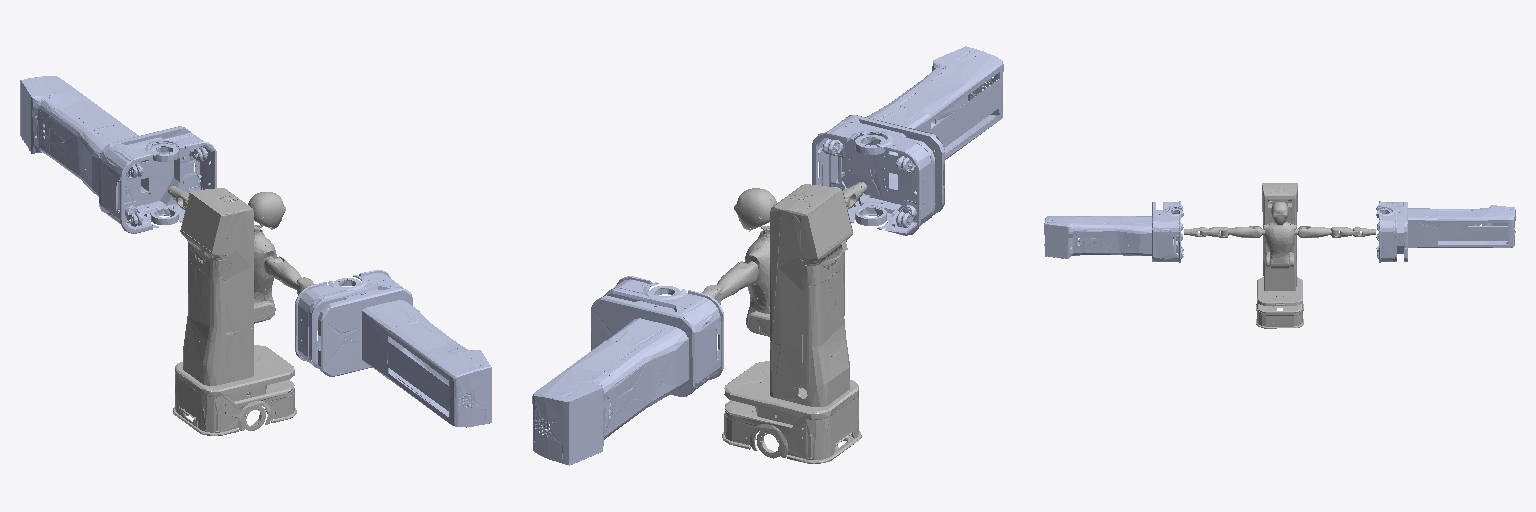
--- Facts derived from the render (not from the file) ---
The picture shows the robot from 3 angles, left to right: view 1: azimuth 30°, elevation 25°; view 2: azimuth 150°, elevation 25°; view 3: azimuth 270°, elevation 25°; orthographic projection.
Robot: A2D — 46 links, 45 joints (31 revolute, 1 prismatic, 13 fixed); root link base_link; default pose: all joints at 0.
Visible links, largest first — view 1: base_link, right_base_link, left_base_link, link_pitch_body, link_pitch_head; view 2: base_link, left_base_link, right_base_link, link_pitch_body, link_pitch_head; view 3: right_base_link, left_base_link, base_link, link_pitch_body.
Boxes of the visible links, bbox=[...] form: base_link: bbox=[173, 188, 296, 435]; right_base_link: bbox=[295, 269, 491, 427]; left_base_link: bbox=[20, 76, 216, 233]; link_pitch_body: bbox=[254, 229, 276, 316]; link_pitch_head: bbox=[248, 192, 285, 229]; base_link: bbox=[722, 184, 861, 463]; left_base_link: bbox=[532, 276, 723, 465]; right_base_link: bbox=[812, 46, 1003, 235]; link_pitch_body: bbox=[744, 230, 769, 330]; link_pitch_head: bbox=[734, 188, 776, 231]; right_base_link: bbox=[1044, 201, 1183, 262]; left_base_link: bbox=[1376, 201, 1515, 262]; base_link: bbox=[1256, 183, 1303, 328]; link_pitch_body: bbox=[1263, 222, 1296, 268].
Bounding box of the posed robot: 0.7298 × 4.41 × 1.3 m (x, y, z).
Meshes: 32 distinct files referenced, 23 mesh visuals loaded (21 binary STL); not drawn: 20 (reference not matched to a file when rendering).

The robot description file, URDF, robot "A2D":
<?xml version="1.0"?>
<robot name="A2D">
  <link name="base_link">
    <inertial>
      <origin xyz="-0.0134486971267798 0.00152103941353612 -0.0320076754329413" rpy="0 0 0"/>
      <mass value="23.2085382238952"/>  <!-- 底盘质量约23.2kg -->
      <inertia
        ixx="0.386955641760608" ixy="0.000135417314593726" ixz="0.00669301645720665"
        iyy="0.366800407621218" iyz="0.000105713634260505" izz="0.546852919828475"/>
    </inertial>
    
    <visual>
      <origin xyz="0 0 0" rpy="0 0 0"/>
      <geometry>
        <mesh filename="meshes/base_link.STL"/>
      </geometry>
      <material name="">
        <color rgba="0.752941176470588 0.752941176470588 0.752941176470588 1"/>  <!-- 灰色 -->
      </material>
    </visual>
    
    <collision>
      <origin xyz="0 0 0" rpy="0 0 0"/>
      <geometry>
        <mesh filename="meshes/base_link.STL"/>
      </geometry>
    </collision>
  </link>

  <!-- 升降机构link：控制整体高度的部分 -->
  <link name="link_up_down_body">
    <inertial>
      <origin xyz="0.0338351537064605 -0.00248044044451858 0.000838431095422365" rpy="0 0 0"/>
      <mass value="3.26275452360108"/>
      <inertia
        ixx="0.0128301877197417" ixy="8.24967996575627E-06" ixz="1.38254543337324E-05"
        iyy="0.006104110250297" iyz="-7.99392548994692E-06" izz="0.0111721084996867"/>
    </inertial>
    
    <visual>
      <origin xyz="0 0 0" rpy="0 0 0"/>
      <geometry>
        <mesh filename="meshes/link_up_down_body.STL"/>
      </geometry>
      <material name="">
        <color rgba="0.752941176470588 0.752941176470588 0.752941176470588 1"/>
      </material>
    </visual>
    
    <collision>
      <origin xyz="0 0 0" rpy="0 0 0"/>
      <geometry>
        <mesh filename="meshes/link_up_down_body.STL"/>
      </geometry>
    </collision>
  </link>

  <!-- 升降关节：控制机器人整体高度，可上升30cm -->
  <joint name="joint_lift_body" type="prismatic">
    <origin xyz="0 0 0.6485" rpy="0 0 0"/>  <!-- 从底盘上方34.85cm处开始 -->
    <parent link="base_link"/>
    <child link="link_up_down_body"/>
    <axis xyz="0 0 1"/>                      <!-- 沿Z轴方向运动 -->
    <limit lower="0" upper="0.5" effort="1000" velocity="2.6100"/>  <!-- 升降范围0-30cm -->
  </joint>

  <!-- 身体俯仰link：可前后倾斜的躯干部分 -->
  <link name="link_pitch_body">
    <inertial>
      <origin xyz="0.193733558855111 -0.000484180179482319 -0.00124011422952511" rpy="0 0 0"/>
      <mass value="7.53199207979272"/>
      <inertia
        ixx="0.016546682835947" ixy="0.000274441382484697" ixz="0.00102757387076422"
        iyy="0.0445441227006132" iyz="-0.000236858278708531" izz="0.0402036337794082"/>
    </inertial>
    
    <visual>
      <origin xyz="0 0 0" rpy="3.14159 0 0"/>
      <geometry>
        <mesh filename="meshes/link_pitch_body.STL"/>
      </geometry>
      <material name="">
        <color rgba="0.752941176470588 0.752941176470588 0.752941176470588 1"/>
      </material>
    </visual>
    
    <collision>
      <origin xyz="0 0 0" rpy="3.14159 0 0"/>
      <geometry>
        <mesh filename="meshes/link_pitch_body.STL"/>
      </geometry>
    </collision>
  </link>

  <!-- 身体俯仰关节：控制机器人俯仰，可俯仰45度 -->
  <joint name="joint_body_pitch" type="revolute">
    <origin xyz="0.131 0 0" rpy="1.5708 -1.5708 0"/>  <!-- 从升降机构前方13.1cm处 -->
    <parent link="link_up_down_body"/>
    <child link="link_pitch_body"/>
    <axis xyz="0 0 -1"/>                              <!-- 绕Z轴负方向旋转 -->
    <limit lower="0" upper="1.047197551" effort="1000" velocity="2.6100"/>  <!-- 0-45度俯仰 -->
  </joint>

  <!-- 头部偏航link：可左右转动的头部 -->
  <link name="link_yaw_head">
    <inertial>
      <origin xyz="0.0446068140025754 0.00241753143645124 0.0528373754603559" rpy="0 0 0"/>
      <mass value="0.414342871921048"/>
      <inertia
        ixx="0.000158695728344024" ixy="-1.04590928109554E-06" ixz="-6.58530903139189E-06"
        iyy="0.000117742864399469" iyz="-2.65011299996072E-06" izz="0.000170947040827065"/>
    </inertial>
    
    <visual>
      <origin xyz="0 0 0" rpy="0 0 3.14159"/>
      <geometry>
        <mesh filename="meshes/link_yaw_head.STL"/>
      </geometry>
      <material name="">
        <color rgba="0.752941176470588 0.752941176470588 0.752941176470588 1"/>
      </material>
    </visual>
    
    <collision>
      <origin xyz="0 0 0" rpy="0 0 3.14159"/>
      <geometry>
        <mesh filename="meshes/link_yaw_head.STL"/>
      </geometry>
    </collision>
  </link>

  <!-- 头部偏航关节：控制头部左右转动，每边90度 -->
  <joint name="joint_head_yaw" type="fixed">
    <origin xyz="0.441 0 0" rpy="1.5708 0 1.5708"/>  <!-- 从躯干前方44.1cm处 -->
    <parent link="link_pitch_body"/>
    <child link="link_yaw_head"/>
    <axis xyz="0 0 1"/>                              <!-- 绕Z轴旋转 -->
    <limit lower="-1.5708" upper="1.5708" effort="50" velocity="1.0"/>  <!-- 左右各90度 -->
  </joint>

  <!-- 头部俯仰link：可上下点头的部分 -->
  <link name="link_pitch_head">
    <inertial>
      <origin xyz="0.0257009265816389 0.0316254080188787 -3.77390122592164E-05" rpy="0 0 0"/>
      <mass value="0.707063977171202"/>
      <inertia
        ixx="0.00205409595373573" ixy="0.000347730118005016" ixz="-2.13857752451204E-06"
        iyy="0.00200357281313449" iyz="5.16150600423908E-08" izz="0.00184999028444405"/>
    </inertial>
    
    <visual>
      <origin xyz="0 0 0" rpy="0 3.14159 0"/>
      <geometry>
        <mesh filename="meshes/link_pitch_head.STL"/>
      </geometry>
      <material name="">
        <color rgba="0.752941176470588 0.752941176470588 0.752941176470588 1"/>
      </material>
    </visual>
    
    <collision>
      <origin xyz="0 0 0" rpy="0 3.14159 0"/>
      <geometry>
        <mesh filename="meshes/link_pitch_head.STL"/>
      </geometry>
    </collision>
  </link>

  <!-- 头部俯仰关节：控制头部上下点头，每边45度 -->
  <joint name="joint_head_pitch" type="fixed">
    <origin xyz="-0.050238 0 0.060065" rpy="1.5708 0 0"/>
    <parent link="link_yaw_head"/>
    <child link="link_pitch_head"/>
    <axis xyz="0 0 1"/>
    <limit lower="-0.785398" upper="0.785398" effort="50" velocity="1.0"/>  <!-- 上下各45度 -->
  </joint>

  <!-- 机械臂link：固定在躯干上的机械臂 -->
  <link name="link_arm"/>

  <!-- 机械臂固定关节：将机械臂固定在躯干上 -->
  <joint name="joint_arm_mount" type="fixed">
    <origin xyz="0.305 0 0" rpy="-1.5708 0 -1.5708"/>  <!-- 从躯干前方30.5cm处固定 -->
    <parent link="link_pitch_body"/>
    <child link="link_arm"/>
    <axis xyz="0 0 1"/>
  </joint>

  <!-- 左臂固定关节：将左臂固定在机器人躯干上 -->
  <joint name="joint_left_arm_mount" type="fixed">
    <origin xyz="0 0.025 0" rpy="-1.5708 0 0"/>  <!-- 从link_arm向左偏移2.5cm -->
    <parent link="link_arm"/>
    <child link="base_link_l"/>
  </joint>

  <!-- 右臂固定关节：将右臂固定在机器人躯干上 -->
  <joint name="joint_right_arm_mount" type="fixed">
    <origin xyz="0 -0.025 0" rpy="1.5708 -3.14159 0"/>  <!-- 从link_arm向右偏移2.5cm -->
    <parent link="link_arm"/>
    <child link="base_link_r"/>
  </joint>

  <!-- 左臂的所有link和joint定义 -->
  <link
    name="base_link_l">
    <inertial>
      <origin
        xyz="0.00020641 -0.00057488 0.034396"
        rpy="0 0 0" />
      <mass
        value="0.37595" />
      <inertia
        ixx="0.00024335"
        ixy="1.2188E-06"
        ixz="2.4281E-06"
        iyy="0.00024039"
        iyz="-6.6932E-06"
        izz="0.00032195" />
    </inertial>
    <visual>
      <origin
        xyz="0 0 0"
        rpy="0 0 0" />
      <geometry>
        <mesh
          filename="meshes/base_link_l.STL" />
      </geometry>
      <material
        name="">
        <color
          rgba="0.75294 0.75294 0.75294 1" />
      </material>
    </visual>
    <collision>
      <origin
        xyz="0 0 0"
        rpy="0 0 0" />
      <geometry>
        <mesh
          filename="meshes/base_link_l.STL" />
      </geometry>
    </collision>
  </link>
  <link
    name="Link1_l">
    <inertial>
      <origin
        xyz="-0.0014596 0.00049476 0.017089"
        rpy="0 0 0" />
      <mass
        value="0.43694" />
      <inertia
        ixx="0.00061894"
        ixy="-6.6923E-06"
        ixz="3.492E-06"
        iyy="0.00054909"
        iyz="1.2223E-06"
        izz="0.00026663" />
    </inertial>
    <visual>
      <origin
        xyz="0 0 0"
        rpy="0 0 0" />
      <geometry>
        <mesh
          filename="meshes/Link1_l.STL" />
      </geometry>
      <material
        name="">
        <color
          rgba="0.75294 0.75294 0.75294 1" />
      </material>
    </visual>
    <collision>
      <origin
        xyz="0 0 0"
        rpy="0 0 0" />
      <geometry>
        <mesh
          filename="meshes/Link1_l.STL" />
      </geometry>
    </collision>
  </link>
  <joint
    name="left_arm_joint1"
    type="revolute">
    <origin
      xyz="0 0 0.188"
      rpy="3.1416 0 0" />
    <parent
      link="base_link_l" />
    <child
      link="Link1_l" />
    <axis
      xyz="0 0 -1" />
    <limit
      lower="-3.14"
      upper="3.14"
      effort="60"
      velocity="3.14" />
  </joint>
  <link
    name="Link2_l">
    <inertial>
      <origin
        xyz="-0.00043013 0.088101 -0.0065021"
        rpy="0 0 0" />
      <mass
        value="0.31992" />
      <inertia
        ixx="0.00033101"
        ixy="-4.1377E-06"
        ixz="9.5154E-07"
        iyy="0.00022098"
        iyz="-4.8041E-05"
        izz="0.00031472" />
    </inertial>
    <visual>
      <origin
        xyz="0 0 0"
        rpy="0 0 0" />
      <geometry>
        <mesh
          filename="meshes/Link2_l.STL" />
      </geometry>
      <material
        name="">
        <color
          rgba="0.75294 0.75294 0.75294 1" />
      </material>
    </visual>
    <collision>
      <origin
        xyz="0 0 0"
        rpy="0 0 0" />
      <geometry>
        <mesh
          filename="meshes/Link2_l.STL" />
      </geometry>
    </collision>
  </link>
  <joint
    name="left_arm_joint2"
    type="revolute">
    <origin
      xyz="0 0 0"
      rpy="-1.5708 0 -1.5708" />
    <parent
      link="Link1_l" />
    <child
      link="Link2_l" />
    <axis
      xyz="0 0 -1" />
    <limit
      lower="-2.35619449"
      upper="2.35619449"
      effort="60"
      velocity="3.14" />
  </joint>
  <link
    name="Link3_l">
    <inertial>
      <origin
        xyz="0.00022593 0.0010417 0.034985"
        rpy="0 0 0" />
      <mass
        value="0.35545" />
      <inertia
        ixx="0.00081056"
        ixy="-2.4265E-06"
        ixz="9.353E-07"
        iyy="0.00083336"
        iyz="3.8681E-06"
        izz="0.00017128" />
    </inertial>
    <visual>
      <origin
        xyz="0 0 0"
        rpy="0 0 0" />
      <geometry>
        <mesh
          filename="meshes/Link3_l.STL" />
      </geometry>
      <material
        name="">
        <color
          rgba="0.75294 0.75294 0.75294 1" />
      </material>
    </visual>
    <collision>
      <origin
        xyz="0 0 0"
        rpy="0 0 0" />
      <geometry>
        <mesh
          filename="meshes/Link3_l.STL" />
      </geometry>
    </collision>
  </link>
  <joint
    name="left_arm_joint3"
    type="revolute">
    <origin
      xyz="0 0.305 0"
      rpy="1.5708 1.5708 0" />
    <parent
      link="Link2_l" />
    <child
      link="Link3_l" />
    <axis
      xyz="0 0 -1" />
    <limit
      lower="-3.14"
      upper="3.14"
      effort="60"
      velocity="3.14" />
  </joint>
  <link
    name="Link4_l">
    <inertial>
      <origin
        xyz="2.1713E-06 0.071943 -0.0054645"
        rpy="0 0 0" />
      <mass
        value="0.1848" />
      <inertia
        ixx="0.00014344"
        ixy="-1.7659E-08"
        ixz="-4.6234E-09"
        iyy="9.0443E-05"
        iyz="-2.1918E-05"
        izz="0.00013811" />
    </inertial>
    <visual>
      <origin
        xyz="0 0 0"
        rpy="0 0 0" />
      <geometry>
        <mesh
          filename="meshes/Link4_l.STL" />
      </geometry>
      <material
        name="">
        <color
          rgba="0.75294 0.75294 0.75294 1" />
      </material>
    </visual>
    <collision>
      <origin
        xyz="0 0 0"
        rpy="0 0 0" />
      <geometry>
        <mesh
          filename="meshes/Link4_l.STL" />
      </geometry>
    </collision>
  </link>
  <joint
    name="left_arm_joint4"
    type="revolute">
    <origin
      xyz="0 0 0"
      rpy="-1.5708 0 0" />
    <parent
      link="Link3_l" />
    <child
      link="Link4_l" />
    <axis
      xyz="0 0 -1" />
    <limit
      lower="-2.35619449"
      upper="2.35619449"
      effort="60"
      velocity="3.14" />
  </joint>
  <link
    name="Link5_l">
    <inertial>
      <origin
        xyz="-7.6715E-07 -6.7798E-05 -0.012879"
        rpy="0 0 0" />
      <mass
        value="0.1775" />
      <inertia
        ixx="0.00012838"
        ixy="1.6718E-09"
        ixz="6.959E-09"
        iyy="0.00013741"
        iyz="3.1692E-07"
        izz="6.2102E-05" />
    </inertial>
    <visual>
      <origin
        xyz="0 0 0"
        rpy="0 0 0" />
      <geometry>
        <mesh
          filename="meshes/Link5_l.STL" />
      </geometry>
      <material
        name="">
        <color
          rgba="0.75294 0.75294 0.75294 1" />
      </material>
    </visual>
    <collision>
      <origin
        xyz="0 0 0"
        rpy="0 0 0" />
      <geometry>
        <mesh
          filename="meshes/Link5_l.STL" />
      </geometry>
    </collision>
  </link>
  <joint
    name="left_arm_joint5"
    type="revolute">
    <origin
      xyz="0 0.1975 0"
      rpy="1.5708 0 -3.1416" />
    <parent
      link="Link4_l" />
    <child
      link="Link5_l" />
    <axis
      xyz="0 0 1" />
    <limit
      lower="-3.14"
      upper="3.14"
      effort="30"
      velocity="3.14" />
  </joint>
  <link
    name="Link6_l">
    <inertial>
      <origin
        xyz="2.2696E-06 -0.10227 -0.0029117"
        rpy="0 0 0" />
      <mass
        value="0.17825" />
      <inertia
        ixx="0.00013761"
        ixy="5.1473E-09"
        ixz="6.9927E-09"
        iyy="8.0777E-05"
        iyz="2.0192E-05"
        izz="0.00012814" />
    </inertial>
    <visual>
      <origin
        xyz="0 0 0"
        rpy="0 0 0" />
      <geometry>
        <mesh
          filename="meshes/Link6_l.STL" />
      </geometry>
      <material
        name="">
        <color
          rgba="0.75294 0.75294 0.75294 1" />
      </material>
    </visual>
    <collision>
      <origin
        xyz="0 0 0"
        rpy="0 0 0" />
      <geometry>
        <mesh
          filename="meshes/Link6_l.STL" />
      </geometry>
    </collision>
  </link>
  <joint
    name="left_arm_joint6"
    type="revolute">
    <origin
      xyz="0 0 0"
      rpy="-1.5708 0 3.1416" />
    <parent
      link="Link5_l" />
    <child
      link="Link6_l" />
    <axis
      xyz="0 0 -1" />
    <limit
      lower="-2.35619449"
      upper="2.35619449"
      effort="30"
      velocity="3.14" />
  </joint>
  <link
    name="Link7_l">
    <inertial>
      <origin
        xyz="-0.00025629 9.064E-06 -0.017205"
        rpy="0 0 0" />
      <mass
        value="0.06158" />
      <inertia
        ixx="1.8213E-05"
        ixy="-8.6954E-08"
        ixz="1.0858E-07"
        iyy="1.8374E-05"
        iyz="3.2442E-08"
        izz="2.8547E-05" />
    </inertial>
    <visual>
      <origin
        xyz="0 0 0"
        rpy="0 0 0" />
      <geometry>
        <mesh
          filename="meshes/Link7_l.STL" />
      </geometry>
      <material
        name="">
        <color
          rgba="0.75294 0.75294 0.75294 1" />
      </material>
    </visual>
    <collision>
      <origin
        xyz="0 0 0"
        rpy="0 0 0" />
      <geometry>
        <mesh
          filename="meshes/Link7_l.STL" />
      </geometry>
    </collision>
  </link>
  <joint
    name="left_arm_joint7"
    type="revolute">
    <origin
      xyz="0 -0.181 0"
      rpy="-1.5708 0 -3.1416" />
    <parent
      link="Link6_l" />
    <child
      link="Link7_l" />
    <axis
      xyz="0 0 1" />
    <limit
      lower="-6.28"
      upper="6.28"
      effort="30"
      velocity="3.14" />
  </joint>

  <joint
    name="Joint_hand_l"
    type="fixed">
    <origin
      xyz="0 0 0"
      rpy="0 0 0" />
    <parent
      link="Link7_l" />
    <child
      link="left_base_link" />
    <axis
      xyz="0 0 0" />
  </joint>

  <!-- 右臂的所有link和joint定义 -->
  <link
    name="base_link_r">
    <inertial>
      <origin
        xyz="0.00020641 -0.00057488 0.034396"
        rpy="0 0 0" />
      <mass
        value="0.37595" />
      <inertia
        ixx="0.00024335"
        ixy="1.2188E-06"
        ixz="2.4281E-06"
        iyy="0.00024039"
        iyz="-6.6932E-06"
        izz="0.00032195" />
    </inertial>
    <visual>
      <origin
        xyz="0 0 0"
        rpy="0 0 0" />
      <geometry>
        <mesh
          filename="meshes/base_link_r.STL" />
      </geometry>
      <material
        name="">
        <color
          rgba="0.75294 0.75294 0.75294 1" />
      </material>
    </visual>
    <collision>
      <origin
        xyz="0 0 0"
        rpy="0 0 0" />
      <geometry>
        <mesh
          filename="meshes/base_link_r.STL" />
      </geometry>
    </collision>
  </link>
  <link
    name="Link1_r">
    <inertial>
      <origin
        xyz="0.0013193 0.00016098 0.018211"
        rpy="0 0 0" />
      <mass
        value="0.48414" />
      <inertia
        ixx="0.000726"
        ixy="2.4165E-06"
        ixz="-7.7713E-06"
        iyy="0.00066689"
        iyz="1.2143E-06"
        izz="0.00028434" />
    </inertial>
    <visual>
      <origin
        xyz="0 0 0"
        rpy="0 0 0" />
      <geometry>
        <mesh
          filename="meshes/Link1_r.STL" />
      </geometry>
      <material
        name="">
        <color
          rgba="0.75294 0.75294 0.75294 1" />
      </material>
    </visual>
    <collision>
      <origin
        xyz="0 0 0"
        rpy="0 0 0" />
      <geometry>
        <mesh
          filename="meshes/Link1_r.STL" />
      </geometry>
    </collision>
  </link>
  <joint
    name="right_arm_joint1"
    type="revolute">
    <origin
      xyz="0 0 0.188"
      rpy="-3.1416 0 0" />
    <parent
      link="base_link_r" />
    <child
      link="Link1_r" />
    <axis
      xyz="0 0 -1" />
    <limit
      lower="-3.14"
      upper="3.14"
      effort="60"
      velocity="3.14" />
  </joint>
  <link
    name="Link2_r">
    <inertial>
      <origin
        xyz="0.00012037 -0.088102 -0.0062668"
        rpy="0 0 0" />
      <mass
        value="0.31993" />
      <inertia
        ixx="0.00033251"
        ixy="-1.2043E-06"
        ixz="-5.3938E-07"
        iyy="0.00022098"
        iyz="4.5816E-05"
        izz="0.00031325" />
    </inertial>
    <visual>
      <origin
        xyz="0 0 0"
        rpy="0 0 0" />
      <geometry>
        <mesh
          filename="meshes/Link2_r.STL" />
      </geometry>
      <material
        name="">
        <color
          rgba="0.75294 0.75294 0.75294 1" />
      </material>
    </visual>
    <collision>
      <origin
        xyz="0 0 0"
        rpy="0 0 0" />
      <geometry>
        <mesh
          filename="meshes/Link2_r.STL" />
      </geometry>
    </collision>
  </link>
  <joint
    name="right_arm_joint2"
    type="revolute">
    <origin
      xyz="0 0 0"
      rpy="1.5708 0 -1.5708" />
    <parent
      link="Link1_r" />
    <child
      link="Link2_r" />
    <axis
      xyz="0 0 -1" />
    <limit
      lower="-2.35619449"
      upper="2.35619449"
      effort="60"
      velocity="3.14" />
  </joint>
  <link
    name="Link3_r">
    <inertial>
      <origin
        xyz="-3.7545E-06 -0.00012549 -0.035846"
        rpy="0 0 0" />
      <mass
        value="0.34932" />
      <inertia
        ixx="0.00084957"
        ixy="-6.2047E-11"
        ixz="1.3496E-08"
        iyy="0.00082652"
        iyz="2.8949E-07"
        izz="0.00021145" />
    </inertial>
    <visual>
      <origin
        xyz="0 0 0"
        rpy="0 0 0" />
      <geometry>
        <mesh
          filename="meshes/Link3_r.STL" />
      </geometry>
      <material
        name="">
        <color
          rgba="0.75294 0.75294 0.75294 1" />
      </material>
    </visual>
    <collision>
      <origin
        xyz="0 0 0"
        rpy="0 0 0" />
      <geometry>
        <mesh
          filename="meshes/Link3_r.STL" />
      </geometry>
    </collision>
  </link>
  <joint
    name="right_arm_joint3"
    type="revolute">
    <origin
      xyz="0 -0.305 0"
      rpy="1.5708 1.5708 0" />
    <parent
      link="Link2_r" />
    <child
      link="Link3_r" />
    <axis
      xyz="0 0 1" />
    <limit
      lower="-3.14"
      upper="3.14"
      effort="60"
      velocity="3.14" />
  </joint>
  <link
    name="Link4_r">
    <inertial>
      <origin
        xyz="1.9102E-06 0.071943 -0.0054646"
        rpy="0 0 0" />
      <mass
        value="0.1848" />
      <inertia
        ixx="0.00014343"
        ixy="-1.7316E-08"
        ixz="-3.4456E-09"
        iyy="9.0442E-05"
        iyz="-2.1917E-05"
        izz="0.0001381" />
    </inertial>
    <visual>
      <origin
        xyz="0 0 0"
        rpy="0 0 0" />
      <geometry>
        <mesh
          filename="meshes/Link4_r.STL" />
      </geometry>
      <material
        name="">
        <color
          rgba="0.75294 0.75294 0.75294 1" />
      </material>
    </visual>
    <collision>
      <origin
        xyz="0 0 0"
        rpy="0 0 0" />
      <geometry>
        <mesh
          filename="meshes/Link4_r.STL" />
      </geometry>
    </collision>
  </link>
  <joint
    name="right_arm_joint4"
    type="revolute">
    <origin
      xyz="0 0 0"
      rpy="1.5708 0 -3.1416" />
    <parent
      link="Link3_r" />
    <child
      link="Link4_r" />
    <axis
      xyz="0 0 -1" />
    <limit
      lower="-2.35619449"
      upper="2.35619449"
      effort="60"
      velocity="3.14" />
  </joint>
  <link
    name="Link5_r">
    <inertial>
      <origin
        xyz="4.0146E-06 -6.7798E-05 -0.012877"
        rpy="0 0 0" />
      <mass
        value="0.1775" />
      <inertia
        ixx="0.00012838"
        ixy="-3.4874E-09"
        ixz="6.9591E-09"
        iyy="0.00013741"
        iyz="3.1477E-07"
        izz="6.2102E-05" />
    </inertial>
    <visual>
      <origin
        xyz="0 0 0"
        rpy="0 0 0" />
      <geometry>
        <mesh
          filename="meshes/Link5_r.STL" />
      </geometry>
      <material
        name="">
        <color
          rgba="0.75294 0.75294 0.75294 1" />
      </material>
    </visual>
    <collision>
      <origin
        xyz="0 0 0"
        rpy="0 0 0" />
      <geometry>
        <mesh
          filename="meshes/Link5_r.STL" />
      </geometry>
    </collision>
  </link>
  <joint
    name="right_arm_joint5"
    type="revolute">
    <origin
      xyz="0 0.1975 0"
      rpy="1.5708 0 -3.1416" />
    <parent
      link="Link4_r" />
    <child
      link="Link5_r" />
    <axis
      xyz="0 0 1" />
    <limit
      lower="-3.14"
      upper="3.14"
      effort="30"
      velocity="3.14" />
  </joint>
  <link
    name="Link6_r">
    <inertial>
      <origin
        xyz="-2.4946E-06 -0.10227 -0.0029098"
        rpy="0 0 0" />
      <mass
        value="0.17825" />
      <inertia
        ixx="0.00013761"
        ixy="-2.7933E-11"
        ixz="6.9889E-09"
        iyy="8.0777E-05"
        iyz="2.0194E-05"
        izz="0.00012814" />
    </inertial>
    <visual>
      <origin
        xyz="0 0 0"
        rpy="0 0 0" />
      <geometry>
        <mesh
          filename="meshes/Link6_r.STL" />
      </geometry>
      <material
        name="">
        <color
          rgba="0.75294 0.75294 0.75294 1" />
      </material>
    </visual>
    <collision>
      <origin
        xyz="0 0 0"
        rpy="0 0 0" />
      <geometry>
        <mesh
          filename="meshes/Link6_r.STL" />
      </geometry>
    </collision>
  </link>
  <joint
    name="right_arm_joint6"
    type="revolute">
    <origin
      xyz="0 0 0"
      rpy="-1.5708 0 3.1416" />
    <parent
      link="Link5_r" />
    <child
      link="Link6_r" />
    <axis
      xyz="0 0 -1" />
    <limit
      lower="-2.35619449"
      upper="2.35619449"
      effort="30"
      velocity="3.14" />
  </joint>
  <link
    name="Link7_r">
    <inertial>
      <origin
        xyz="0.0002265 0.00012031 -0.017205"
        rpy="0 0 0" />
      <mass
        value="0.06158" />
      <inertia
        ixx="1.8328E-05"
        ixy="-1.1354E-07"
        ixz="-7.7825E-08"
        iyy="1.8259E-05"
        iyz="-8.2338E-08"
        izz="2.8547E-05" />
    </inertial>
    <visual>
      <origin
        xyz="0 0 0"
        rpy="0 0 0" />
      <geometry>
        <mesh
          filename="meshes/Link7_r.STL" />
      </geometry>
      <material
        name="">
        <color
          rgba="0.75294 0.75294 0.75294 1" />
      </material>
    </visual>
    <collision>
      <origin
        xyz="0 0 0"
        rpy="0 0 0" />
      <geometry>
        <mesh
          filename="meshes/Link7_r.STL" />
      </geometry>
    </collision>
  </link>


  <joint
    name="right_arm_joint7"
    type="revolute">
    <origin
      xyz="0 -0.181 0"
      rpy="-1.5708 0 3.1416" />
    <parent
      link="Link6_r" />
    <child
      link="Link7_r" />
    <axis
      xyz="0 0 1" />
    <limit
      lower="-3.14"
      upper="3.14"
      effort="30"
      velocity="3.14" />
  </joint>

  <joint
    name="Joint_hand_r"
    type="fixed">
    <origin
      xyz="0 0 0"
      rpy="0 0 0" />
    <parent
      link="Link7_r" />
    <child
      link="right_base_link" />
    <axis
      xyz="0 0 0" />
  </joint>
  <link
    name="right_base_link">
    <inertial>
      <origin
        xyz="1.23989288637867E-06 3.27564415436087E-07 0.0536186975993762"
        rpy="0 0 0" />
      <mass
        value="0.443105756928829" />
      <inertia
        ixx="0.00064200574020552"
        ixy="-1.51180224931458E-07"
        ixz="7.24174172220287E-09"
        iyy="0.00066998312004943"
        iyz="2.73584170951165E-09"
        izz="0.000278949393571484" />
    </inertial>
    <visual>
      <origin
        xyz="0 0 0"
        rpy="0 0 0" />
      <geometry>
        <mesh
          filename="meshes/crt_120s/base_link.STL" />
      </geometry>
      <material
        name="">
        <color
          rgba="0.792156862745098 0.819607843137255 0.933333333333333 1" />
      </material>
    </visual>
    <collision>
      <origin
        xyz="0 0 0"
        rpy="0 0 0" />
      <geometry>
        <mesh
          filename="meshes/crt_120s/base_link.STL" />
      </geometry>
    </collision>
  </link>
  <link
    name="right_Left_01_Link">
    <inertial>
      <origin
        xyz="0.00656387870913618 0.024850259757102 -9.40817030196858E-10"
        rpy="0 0 0" />
      <mass
        value="0.0112899386472626" />
      <inertia
        ixx="1.96944973967669E-06"
        ixy="6.42395813223716E-07"
        ixz="-1.07950451056367E-14"
        iyy="1.39704780795747E-06"
        iyz="-1.48209813327181E-14"
        izz="2.47457179553145E-06" />
    </inertial>
    <visual>
      <origin
        xyz="0 0 0"
        rpy="0 0 0" />
      <geometry>
        <mesh
          filename="meshes/crt_120s/Left_01_Link.STL" />
      </geometry>
      <material
        name="">
        <color
          rgba="0.792156862745098 0.819607843137255 0.933333333333333 1" />
      </material>
    </visual>
    <collision>
      <origin
        xyz="0 0 0"
        rpy="0 0 0" />
      <geometry>
        <mesh
          filename="meshes/crt_120s/Left_01_Link.STL" />
      </geometry>
    </collision>
  </link>
  <joint
    name="right_hand_joint1"
    type="revolute">
    <origin
      xyz="-0.032553 0 0.10644"
      rpy="1.5708 0 3.1416" />
    <parent
      link="right_base_link" />
    <child
      link="right_Left_01_Link" />
    <axis
      xyz="0 0 -1" />
    <limit
      lower="0"
      upper="1"
      effort="2"
      velocity="1000" />
  </joint>


  <link
    name="right_Left_00_Link">
    <inertial>
      <origin
        xyz="0.00656387870913618 0.024850259757102 -9.40817030196858E-10"
        rpy="0 0 0" />
      <mass
        value="0.0112899386472626" />
      <inertia
        ixx="1.96944973967669E-06"
        ixy="6.42395813223716E-07"
        ixz="-1.07950451056367E-14"
        iyy="1.39704780795747E-06"
        iyz="-1.48209813327181E-14"
        izz="2.47457179553145E-06" />
    </inertial>
    <visual>
      <origin
        xyz="0 0 0"
        rpy="0 0 0" />
      <geometry>
        <mesh
          filename="meshes/crt_120s/Left_00_Link.STL" />
      </geometry>
      <material
        name="">
        <color
          rgba="0.792156862745098 0.819607843137255 0.933333333333333 1" />
      </material>
    </visual>
    <collision>
      <origin
        xyz="0 0 0"
        rpy="0 0 0" />
      <geometry>
        <mesh
          filename="meshes/crt_120s/Left_00_Link.STL" />
      </geometry>
    </collision>
  </link>

  <joint
    name="right_Left_0_Joint"
    type="revolute">
    <origin
      xyz="0.01946 0.0129 0"
      rpy="0 0 0" />
    <parent
      link="right_Left_01_Link" />
    <child
      link="right_Left_00_Link" />
    <axis
      xyz="0 0 -1" />
    <limit
      lower="0"
      upper="1"
      effort="2"
      velocity="1000" />
  </joint>


  <link
    name="right_Left_Support_Link">
    <inertial>
      <origin
        xyz="-0.011970095332009 0.0238338043684485 -1.36624428992904E-06"
        rpy="0 0 0" />
      <mass
        value="0.0140092102116716" />
      <inertia
        ixx="4.13674978137002E-06"
        ixy="9.81573398608352E-07"
        ixz="-2.87921970465553E-11"
        iyy="1.1362453186293E-06"
        iyz="2.94726072168702E-11"
        izz="4.10226218364235E-06" />
    </inertial>
    <visual>
      <origin
        xyz="0 0 0"
        rpy="0 0 0" />
      <geometry>
        <mesh
          filename="meshes/crt_120s/Left_Support_Link.STL" />
      </geometry>
      <material
        name="">
        <color
          rgba="0.792156862745098 0.819607843137255 0.933333333333333 1" />
      </material>
    </visual>
    <collision>
      <origin
        xyz="0 0 0"
        rpy="0 0 0" />
      <geometry>
        <mesh
          filename="meshes/crt_120s/Left_Support_Link.STL" />
      </geometry>
    </collision>
  </link>
  <joint
    name="right_Left_Support_Joint"
    type="revolute">
    <origin
      xyz="-0.02888 0.04341 0"
      rpy="0 0 0" />
    <parent
      link="right_Left_00_Link" />
    <child
      link="right_Left_Support_Link" />
    <axis
      xyz="0 0 1" />
    <limit
      lower="-1"
      upper="1"
      effort="10"
      velocity="10" />
    <mimic
      joint="right_hand_joint1"
      multiplier="1"
      offset="0" />
  </joint>
  <link
    name="right_Left_Pad_Link">
    <inertial>
      <origin
        xyz="1.46688816627348E-09 0.00209017783344978 -8.17280129359337E-17"
        rpy="0 0 0" />
      <mass
        value="0.00332411394949541" />
      <inertia
        ixx="5.5867126170785E-07"
        ixy="2.9966962370347E-20"
        ixz="1.44978830317617E-23"
        iyy="1.45407135182096E-07"
        iyz="-1.60867378777053E-21"
        izz="4.18250297449997E-07" />
    </inertial>
    <visual>
      <origin
        xyz="0 0 0"
        rpy="0 0 0" />
      <geometry>
        <mesh
          filename="meshes/crt_120s/Left_Pad_Link.STL" />
      </geometry>
      <material
        name="">
        <color
          rgba="0.384313725490196 0.384313725490196 0.384313725490196 1" />
      </material>
    </visual>
    <collision>
      <origin
        xyz="0 0 0"
        rpy="0 0 0" />
      <geometry>
        <mesh
          filename="meshes/crt_120s/Left_Pad_Link.STL" />
      </geometry>
    </collision>
  </link>
  <joint
    name="right_Left_Pad_Joint"
    type="fixed">
    <origin
      xyz="-0.022056 0.044306 0"
      rpy="0 0 0" />
    <parent
      link="right_Left_Support_Link" />
    <child
      link="right_Left_Pad_Link" />
    <axis
      xyz="0 0 0" />
  </joint>
  <link
    name="right_Left_2_Link">
    <inertial>
      <origin
        xyz="-0.00438952959966343 0.0248815722409523 -2.55135883071891E-05"
        rpy="0 0 0" />
      <mass
        value="0.00803955821311802" />
      <inertia
        ixx="1.15079028835042E-06"
        ixy="1.13853775681911E-07"
        ixz="-1.79492796413463E-10"
        iyy="4.68655200337902E-07"
        iyz="-4.49903912976825E-10"
        izz="8.47367915692972E-07" />
    </inertial>
    <visual>
      <origin
        xyz="0 0 0"
        rpy="0 0 0" />
      <geometry>
        <mesh
          filename="meshes/crt_120s/Left_2_Link.STL" />
      </geometry>
      <material
        name="">
        <color
          rgba="0.792156862745098 0.819607843137255 0.933333333333333 1" />
      </material>
    </visual>
    <collision>
      <origin
        xyz="0 0 0"
        rpy="0 0 0" />
      <geometry>
        <mesh
          filename="meshes/crt_120s/Left_2_Link.STL" />
      </geometry>
    </collision>
  </link>
  <joint
    name="right_Left_2_Joint"
    type="revolute">
    <origin
      xyz="-0.017 0 0.122"
      rpy="1.5708 0 3.1416" />
    <parent
      link="right_base_link" />
    <child
      link="right_Left_2_Link" />
    <axis
      xyz="0 0 -1" />
    <limit
      lower="-1"
      upper="1"
      effort="10"
      velocity="10" />
    <mimic
      joint="right_hand_joint1"
      multiplier="1"
      offset="0" />
  </joint>
  <link
    name="right_Right_2_Link">
    <inertial>
      <origin
        xyz="-0.00438952959968201 0.0248815722409522 -2.5513588307359E-05"
        rpy="0 0 0" />
      <mass
        value="0.00803955821311803" />
      <inertia
        ixx="1.15079028835042E-06"
        ixy="1.13853775681912E-07"
        ixz="-1.79492796413511E-10"
        iyy="4.68655200337903E-07"
        iyz="-4.49903912976901E-10"
        izz="8.47367915692974E-07" />
    </inertial>
    <visual>
      <origin
        xyz="0 0 0"
        rpy="0 0 0" />
      <geometry>
        <mesh
          filename="meshes/crt_120s/Right_2_Link.STL" />
      </geometry>
      <material
        name="">
        <color
          rgba="0.792156862745098 0.819607843137255 0.933333333333333 1" />
      </material>
    </visual>
    <collision>
      <origin
        xyz="0 0 0"
        rpy="0 0 0" />
      <geometry>
        <mesh
          filename="meshes/crt_120s/Right_2_Link.STL" />
      </geometry>
    </collision>
  </link>
  <joint
    name="right_Right_2_Joint"
    type="revolute">
    <origin
      xyz="0.017 0 0.122"
      rpy="1.5708 0 0" />
    <parent
      link="right_base_link" />
    <child
      link="right_Right_2_Link" />
    <axis
      xyz="0 0 1" />
    <limit
      lower="-1"
      upper="1"
      effort="10"
      velocity="10" />
    <mimic
      joint="right_hand_joint1"
      multiplier="-1"
      offset="0" />
  </joint>
  <link
    name="right_Right_01_Link">
    <inertial>
      <origin
        xyz="0.00656387870564603 0.0248502597572661 -9.40812230336897E-10"
        rpy="0 0 0" />
      <mass
        value="0.0112899386472626" />
      <inertia
        ixx="1.96944973967663E-06"
        ixy="6.42395813223747E-07"
        ixz="-1.07950449101923E-14"
        iyy="1.39704780795753E-06"
        iyz="-1.48209815851649E-14"
        izz="2.47457179553146E-06" />
    </inertial>
    <visual>
      <origin
        xyz="0 0 0"
        rpy="0 0 0" />
      <geometry>
        <mesh
          filename="meshes/crt_120s/Right_01_Link.STL" />
      </geometry>
      <material
        name="">
        <color
          rgba="0.792156862745098 0.819607843137255 0.933333333333333 1" />
      </material>
    </visual>
    <collision>
      <origin
        xyz="0 0 0"
        rpy="0 0 0" />
      <geometry>
        <mesh
          filename="meshes/crt_120s/Right_01_Link.STL" />
      </geometry>
    </collision>
  </link>
  <joint
    name="right_Right_1_Joint"
    type="revolute">
    <origin
      xyz="0.032553 0 0.10644"
      rpy="1.5708 0 0" />
    <parent
      link="right_base_link" />
    <child
      link="right_Right_01_Link" />
    <axis
      xyz="0 0 1" />
    <limit
      lower="-1"
      upper="1"
      effort="10"
      velocity="10" />
    <mimic
      joint="right_hand_joint1"
      multiplier="-1"
      offset="0" />
  </joint>

  <link
    name="right_Right_00_Link">
    <inertial>
      <origin
        xyz="0.00656387870564603 0.0248502597572661 -9.40812230336897E-10"
        rpy="0 0 0" />
      <mass
        value="0.0112899386472626" />
      <inertia
        ixx="1.96944973967663E-06"
        ixy="6.42395813223747E-07"
        ixz="-1.07950449101923E-14"
        iyy="1.39704780795753E-06"
        iyz="-1.48209815851649E-14"
        izz="2.47457179553146E-06" />
    </inertial>
    <visual>
      <origin
        xyz="0 0 0"
        rpy="0 0 0" />
      <geometry>
        <mesh
          filename="meshes/crt_120s/Right_00_Link.STL" />
      </geometry>
      <material
        name="">
        <color
          rgba="0.792156862745098 0.819607843137255 0.933333333333333 1" />
      </material>
    </visual>
    <collision>
      <origin
        xyz="0 0 0"
        rpy="0 0 0" />
      <geometry>
        <mesh
          filename="meshes/crt_120s/Right_00_Link.STL" />
      </geometry>
    </collision>
  </link>

    <joint
    name="right_Right_0_Joint"
    type="revolute">
    
    <origin
      xyz="0.01946 0.0129 0"
      rpy="0 0 0" />
    <parent
      link="right_Right_01_Link" />
    <child
      link="right_Right_00_Link" />
    <axis
      xyz="0 0 1" />
    <limit
      lower="-1"
      upper="1"
      effort="10"
      velocity="10" />
  </joint>

  <link
    name="right_Right_Support_Link">
    <inertial>
      <origin
        xyz="-0.011970095112324 0.0238338043682057 -1.36624428997256E-06"
        rpy="0 0 0" />
      <mass
        value="0.0140092102116716" />
      <inertia
        ixx="4.13674978136988E-06"
        ixy="9.81573398608576E-07"
        ixz="-2.87921970465403E-11"
        iyy="1.13624531862944E-06"
        iyz="2.94726072165632E-11"
        izz="4.10226218364236E-06" />
    </inertial>
    <visual>
      <origin
        xyz="0 0 0"
        rpy="0 0 0" />
      <geometry>
        <mesh
          filename="meshes/crt_120s/Right_Support_Link.STL" />
      </geometry>
      <material
        name="">
        <color
          rgba="0.792156862745098 0.819607843137255 0.933333333333333 1" />
      </material>
    </visual>
    <collision>
      <origin
        xyz="0 0 0"
        rpy="0 0 0" />
      <geometry>
        <mesh
          filename="meshes/crt_120s/Right_Support_Link.STL" />
      </geometry>
    </collision>
  </link>
  <joint
    name="right_Right_Support_Joint"
    type="revolute">
    <origin
      xyz="-0.02888 0.04341 0"
      rpy="0 0 0" />
    <parent
      link="right_Right_00_Link" />
    <child
      link="right_Right_Support_Link" />
    <axis
      xyz="0 0 1" />
    <limit
      lower="-1"
      upper="1"
      effort="10"
      velocity="10" />
    <mimic
      joint="right_hand_joint1"
      multiplier="1"
      offset="0" />
  </joint>
  <link
    name="right_Right_Pad_Link">
    <inertial>
      <origin
        xyz="5.43457184440897E-09 0.00209017783344967 -1.21646039264426E-16"
        rpy="0 0 0" />
      <mass
        value="0.00332411394949542" />
      <inertia
        ixx="5.58671261707851E-07"
        ixy="3.06066210315894E-20"
        ixz="1.70379713307979E-23"
        iyy="1.45407135182096E-07"
        iyz="-1.65096420438087E-21"
        izz="4.18250297449998E-07" />
    </inertial>
    <visual>
      <origin
        xyz="0 0 0"
        rpy="0 0 0" />
      <geometry>
        <mesh
          filename="meshes/crt_120s/Right_Pad_Link.STL" />
      </geometry>
      <material
        name="">
        <color
          rgba="0.384313725490196 0.384313725490196 0.384313725490196 1" />
      </material>
    </visual>
    <collision>
      <origin
        xyz="0 0 0"
        rpy="0 0 0" />
      <geometry>
        <mesh
          filename="meshes/crt_120s/Right_Pad_Link.STL" />
      </geometry>
    </collision>
  </link>
  <joint
    name="right_Right_Pad_Joint"
    type="fixed">
    <origin
      xyz="-0.022056 0.044306 0"
      rpy="0 0 0" />
    <parent
      link="right_Right_Support_Link" />
    <child
      link="right_Right_Pad_Link" />
    <axis
      xyz="0 0 0" />
  </joint>

  <link
    name="left_base_link">
    <inertial>
      <origin
        xyz="1.23989288637867E-06 3.27564415436087E-07 0.0536186975993762"
        rpy="0 0 0" />
      <mass
        value="0.443105756928829" />
      <inertia
        ixx="0.00064200574020552"
        ixy="-1.51180224931458E-07"
        ixz="7.24174172220287E-09"
        iyy="0.00066998312004943"
        iyz="2.73584170951165E-09"
        izz="0.000278949393571484" />
    </inertial>
    <visual>
      <origin
        xyz="0 0 0"
        rpy="0 0 0" />
      <geometry>
        <mesh
          filename="meshes/crt_120s/base_link.STL" />
      </geometry>
      <material
        name="">
        <color
          rgba="0.792156862745098 0.819607843137255 0.933333333333333 1" />
      </material>
    </visual>
    <collision>
      <origin
        xyz="0 0 0"
        rpy="0 0 0" />
      <geometry>
        <mesh
          filename="meshes/crt_120s/base_link.STL" />
      </geometry>
    </collision>
  </link>
  <link
    name="left_Left_01_Link">
    <inertial>
      <origin
        xyz="0.00656387870913618 0.024850259757102 -9.40817030196858E-10"
        rpy="0 0 0" />
      <mass
        value="0.0112899386472626" />
      <inertia
        ixx="1.96944973967669E-06"
        ixy="6.42395813223716E-07"
        ixz="-1.07950451056367E-14"
        iyy="1.39704780795747E-06"
        iyz="-1.48209813327181E-14"
        izz="2.47457179553145E-06" />
    </inertial>
    <visual>
      <origin
        xyz="0 0 0"
        rpy="0 0 0" />
      <geometry>
        <mesh
          filename="meshes/crt_120s/Left_01_Link.STL" />
      </geometry>
      <material
        name="">
        <color
          rgba="0.792156862745098 0.819607843137255 0.933333333333333 1" />
      </material>
    </visual>
    <collision>
      <origin
        xyz="0 0 0"
        rpy="0 0 0" />
      <geometry>
        <mesh
          filename="meshes/crt_120s/Left_01_Link.STL" />
      </geometry>
    </collision>
  </link>
  <joint
    name="left_hand_joint1"
    type="revolute">
    <origin
      xyz="-0.032553 0 0.10644"
      rpy="1.5708 0 3.1416" />
    <parent
      link="left_base_link" />
    <child
      link="left_Left_01_Link" />
    <axis
      xyz="0 0 -1" />
    <limit
      lower="0"
      upper="1"
      effort="2"
      velocity="1000" />
  </joint>


  <link
    name="left_Left_00_Link">
    <inertial>
      <origin
        xyz="0.00656387870913618 0.024850259757102 -9.40817030196858E-10"
        rpy="0 0 0" />
      <mass
        value="0.0112899386472626" />
      <inertia
        ixx="1.96944973967669E-06"
        ixy="6.42395813223716E-07"
        ixz="-1.07950451056367E-14"
        iyy="1.39704780795747E-06"
        iyz="-1.48209813327181E-14"
        izz="2.47457179553145E-06" />
    </inertial>
    <visual>
      <origin
        xyz="0 0 0"
        rpy="0 0 0" />
      <geometry>
        <mesh
          filename="meshes/crt_120s/Left_00_Link.STL" />
      </geometry>
      <material
        name="">
        <color
          rgba="0.792156862745098 0.819607843137255 0.933333333333333 1" />
      </material>
    </visual>
    <collision>
      <origin
        xyz="0 0 0"
        rpy="0 0 0" />
      <geometry>
        <mesh
          filename="meshes/crt_120s/Left_00_Link.STL" />
      </geometry>
    </collision>
  </link>

  <joint
    name="left_Left_0_Joint"
    type="revolute">
    
    <origin
      xyz="0.01946 0.0129 0"
      rpy="0 0 0" />
    <parent
      link="left_Left_01_Link" />
    <child
      link="left_Left_00_Link" />
    <axis
      xyz="0 0 1" />
    <limit
      lower="-1"
      upper="1"
      effort="10"
      velocity="10" />
  </joint>

  <link
    name="left_Left_Support_Link">
    <inertial>
      <origin
        xyz="-0.011970095332009 0.0238338043684485 -1.36624428992904E-06"
        rpy="0 0 0" />
      <mass
        value="0.0140092102116716" />
      <inertia
        ixx="4.13674978137002E-06"
        ixy="9.81573398608352E-07"
        ixz="-2.87921970465553E-11"
        iyy="1.1362453186293E-06"
        iyz="2.94726072168702E-11"
        izz="4.10226218364235E-06" />
    </inertial>
    <visual>
      <origin
        xyz="0 0 0"
        rpy="0 0 0" />
      <geometry>
        <mesh
          filename="meshes/crt_120s/Left_Support_Link.STL" />
      </geometry>
      <material
        name="">
        <color
          rgba="0.792156862745098 0.819607843137255 0.933333333333333 1" />
      </material>
    </visual>
    <collision>
      <origin
        xyz="0 0 0"
        rpy="0 0 0" />
      <geometry>
        <mesh
          filename="meshes/crt_120s/Left_Support_Link.STL" />
      </geometry>
    </collision>
  </link>
  <joint
    name="left_Left_Support_Joint"
    type="revolute">
    <origin
      xyz="-0.0093594 0.056229 0"
      rpy="0 0 0" />
    <parent
      link="left_Left_01_Link" />
    <child
      link="left_Left_Support_Link" />
    <axis
      xyz="0 0 1" />
    <limit
      lower="-1"
      upper="1"
      effort="10"
      velocity="10" />
    <mimic
      joint="left_hand_joint1"
      multiplier="1"
      offset="0" />
  </joint>
  <link
    name="left_Left_Pad_Link">
    <inertial>
      <origin
        xyz="1.46688816627348E-09 0.00209017783344978 -8.17280129359337E-17"
        rpy="0 0 0" />
      <mass
        value="0.00332411394949541" />
      <inertia
        ixx="5.5867126170785E-07"
        ixy="2.9966962370347E-20"
        ixz="1.44978830317617E-23"
        iyy="1.45407135182096E-07"
        iyz="-1.60867378777053E-21"
        izz="4.18250297449997E-07" />
    </inertial>
    <visual>
      <origin
        xyz="0 0 0"
        rpy="0 0 0" />
      <geometry>
        <mesh
          filename="meshes/crt_120s/Left_Pad_Link.STL" />
      </geometry>
      <material
        name="">
        <color
          rgba="0.384313725490196 0.384313725490196 0.384313725490196 1" />
      </material>
    </visual>
    <collision>
      <origin
        xyz="0 0 0"
        rpy="0 0 0" />
      <geometry>
        <mesh
          filename="meshes/crt_120s/Left_Pad_Link.STL" />
      </geometry>
    </collision>
  </link>
  <joint
    name="left_Left_Pad_Joint"
    type="fixed">
    <origin
      xyz="-0.022056 0.044306 0"
      rpy="0 0 0" />
    <parent
      link="left_Left_Support_Link" />
    <child
      link="left_Left_Pad_Link" />
    <axis
      xyz="0 0 0" />
  </joint>
  <link
    name="left_Left_2_Link">
    <inertial>
      <origin
        xyz="-0.00438952959966343 0.0248815722409523 -2.55135883071891E-05"
        rpy="0 0 0" />
      <mass
        value="0.00803955821311802" />
      <inertia
        ixx="1.15079028835042E-06"
        ixy="1.13853775681911E-07"
        ixz="-1.79492796413463E-10"
        iyy="4.68655200337902E-07"
        iyz="-4.49903912976825E-10"
        izz="8.47367915692972E-07" />
    </inertial>
    <visual>
      <origin
        xyz="0 0 0"
        rpy="0 0 0" />
      <geometry>
        <mesh
          filename="meshes/crt_120s/Left_2_Link.STL" />
      </geometry>
      <material
        name="">
        <color
          rgba="0.792156862745098 0.819607843137255 0.933333333333333 1" />
      </material>
    </visual>
    <collision>
      <origin
        xyz="0 0 0"
        rpy="0 0 0" />
      <geometry>
        <mesh
          filename="meshes/crt_120s/Left_2_Link.STL" />
      </geometry>
    </collision>
  </link>
  <joint
    name="left_Left_2_Joint"
    type="revolute">
    <origin
      xyz="-0.017 0 0.122"
      rpy="1.5708 0 3.1416" />
    <parent
      link="left_base_link" />
    <child
      link="left_Left_2_Link" />
    <axis
      xyz="0 0 -1" />
    <limit
      lower="-1"
      upper="1"
      effort="10"
      velocity="10" />
    <mimic
      joint="left_hand_joint1"
      multiplier="1"
      offset="0" />
  </joint>
  <link
    name="left_Right_2_Link">
    <inertial>
      <origin
        xyz="-0.00438952959968201 0.0248815722409522 -2.5513588307359E-05"
        rpy="0 0 0" />
      <mass
        value="0.00803955821311803" />
      <inertia
        ixx="1.15079028835042E-06"
        ixy="1.13853775681912E-07"
        ixz="-1.79492796413511E-10"
        iyy="4.68655200337903E-07"
        iyz="-4.49903912976901E-10"
        izz="8.47367915692974E-07" />
    </inertial>
    <visual>
      <origin
        xyz="0 0 0"
        rpy="0 0 0" />
      <geometry>
        <mesh
          filename="meshes/crt_120s/Right_2_Link.STL" />
      </geometry>
      <material
        name="">
        <color
          rgba="0.792156862745098 0.819607843137255 0.933333333333333 1" />
      </material>
    </visual>
    <collision>
      <origin
        xyz="0 0 0"
        rpy="0 0 0" />
      <geometry>
        <mesh
          filename="meshes/crt_120s/Right_2_Link.STL" />
      </geometry>
    </collision>
  </link>
  <joint
    name="left_Right_2_Joint"
    type="revolute">
    <origin
      xyz="0.017 0 0.122"
      rpy="1.5708 0 0" />
    <parent
      link="left_base_link" />
    <child
      link="left_Right_2_Link" />
    <axis
      xyz="0 0 1" />
    <limit
      lower="-1"
      upper="1"
      effort="10"
      velocity="10" />
    <mimic
      joint="left_hand_joint1"
      multiplier="-1"
      offset="0" />
  </joint>
  <link
    name="left_Right_01_Link">
    <inertial>
      <origin
        xyz="0.00656387870564603 0.0248502597572661 -9.40812230336897E-10"
        rpy="0 0 0" />
      <mass
        value="0.0112899386472626" />
      <inertia
        ixx="1.96944973967663E-06"
        ixy="6.42395813223747E-07"
        ixz="-1.07950449101923E-14"
        iyy="1.39704780795753E-06"
        iyz="-1.48209815851649E-14"
        izz="2.47457179553146E-06" />
    </inertial>
    <visual>
      <origin
        xyz="0 0 0"
        rpy="0 0 0" />
      <geometry>
        <mesh
          filename="meshes/crt_120s/Right_01_Link.STL" />
      </geometry>
      <material
        name="">
        <color
          rgba="0.792156862745098 0.819607843137255 0.933333333333333 1" />
      </material>
    </visual>
    <collision>
      <origin
        xyz="0 0 0"
        rpy="0 0 0" />
      <geometry>
        <mesh
          filename="meshes/crt_120s/Right_01_Link.STL" />
      </geometry>
    </collision>
  </link>
  <joint
    name="left_Right_1_Joint"
    type="revolute">
    <origin
      xyz="0.032553 0 0.10644"
      rpy="1.5708 0 0" />
    <parent
      link="left_base_link" />
    <child
      link="left_Right_01_Link" />
    <axis
      xyz="0 0 1" />
    <limit
      lower="-1"
      upper="1"
      effort="10"
      velocity="10" />
    <mimic
      joint="left_hand_joint1"
      multiplier="-1"
      offset="0" />
  </joint>

  <link
    name="left_Right_00_Link">
    <inertial>
      <origin
        xyz="0.00656387870564603 0.0248502597572661 -9.40812230336897E-10"
        rpy="0 0 0" />
      <mass
        value="0.0112899386472626" />
      <inertia
        ixx="1.96944973967663E-06"
        ixy="6.42395813223747E-07"
        ixz="-1.07950449101923E-14"
        iyy="1.39704780795753E-06"
        iyz="-1.48209815851649E-14"
        izz="2.47457179553146E-06" />
    </inertial>
    <visual>
      <origin
        xyz="0 0 0"
        rpy="0 0 0" />
      <geometry>
        <mesh
          filename="meshes/crt_120s/Right_00_Link.STL" />
      </geometry>
      <material
        name="">
        <color
          rgba="0.792156862745098 0.819607843137255 0.933333333333333 1" />
      </material>
    </visual>
    <collision>
      <origin
        xyz="0 0 0"
        rpy="0 0 0" />
      <geometry>
        <mesh
          filename="meshes/crt_120s/Right_00_Link.STL" />
      </geometry>
    </collision>
  </link>

  <joint
    name="left_Right_0_Joint"
    type="revolute">
    <origin
      xyz="0.01946 0.0129 0"
      rpy="0 0 0" />
    <parent
      link="left_Right_01_Link" />
    <child
      link="left_Right_00_Link" />
    <axis
      xyz="0 0 -1" />
    <limit
      lower="0"
      upper="1"
      effort="2"
      velocity="1000" />
  </joint>

  <link
    name="left_Right_Support_Link">
    <inertial>
      <origin
        xyz="-0.011970095112324 0.0238338043682057 -1.36624428997256E-06"
        rpy="0 0 0" />
      <mass
        value="0.0140092102116716" />
      <inertia
        ixx="4.13674978136988E-06"
        ixy="9.81573398608576E-07"
        ixz="-2.87921970465403E-11"
        iyy="1.13624531862944E-06"
        iyz="2.94726072165632E-11"
        izz="4.10226218364236E-06" />
    </inertial>
    <visual>
      <origin
        xyz="0 0 0"
        rpy="0 0 0" />
      <geometry>
        <mesh
          filename="meshes/crt_120s/Right_Support_Link.STL" />
      </geometry>
      <material
        name="">
        <color
          rgba="0.792156862745098 0.819607843137255 0.933333333333333 1" />
      </material>
    </visual>
    <collision>
      <origin
        xyz="0 0 0"
        rpy="0 0 0" />
      <geometry>
        <mesh
          filename="meshes/crt_120s/Right_Support_Link.STL" />
      </geometry>
    </collision>
  </link>
  <joint
    name="left_Right_Support_Joint"
    type="revolute">
    <origin
      xyz="-0.0093594 0.056229 0"
      rpy="0 0 0" />
    <parent
      link="left_Right_01_Link" />
    <child
      link="left_Right_Support_Link" />
    <axis
      xyz="0 0 1" />
    <limit
      lower="-1"
      upper="1"
      effort="10"
      velocity="10" />
    <mimic
      joint="left_hand_joint1"
      multiplier="1"
      offset="0" />
  </joint>
  <link
    name="left_Right_Pad_Link">
    <inertial>
      <origin
        xyz="5.43457184440897E-09 0.00209017783344967 -1.21646039264426E-16"
        rpy="0 0 0" />
      <mass
        value="0.00332411394949542" />
      <inertia
        ixx="5.58671261707851E-07"
        ixy="3.06066210315894E-20"
        ixz="1.70379713307979E-23"
        iyy="1.45407135182096E-07"
        iyz="-1.65096420438087E-21"
        izz="4.18250297449998E-07" />
    </inertial>
    <visual>
      <origin
        xyz="0 0 0"
        rpy="0 0 0" />
      <geometry>
        <mesh
          filename="meshes/crt_120s/Right_Pad_Link.STL" />
      </geometry>
      <material
        name="">
        <color
          rgba="0.384313725490196 0.384313725490196 0.384313725490196 1" />
      </material>
    </visual>
    <collision>
      <origin
        xyz="0 0 0"
        rpy="0 0 0" />
      <geometry>
        <mesh
          filename="meshes/crt_120s/Right_Pad_Link.STL" />
      </geometry>
    </collision>
  </link>
  <joint
    name="left_Right_Pad_Joint"
    type="fixed">
    <origin
      xyz="-0.022056 0.044306 0"
      rpy="0 0 0" />
    <parent
      link="left_Right_Support_Link" />
    <child
      link="left_Right_Pad_Link" />
    <axis
      xyz="0 0 0" />
  </joint>

  <link 
      name="gripper_center">
  </link>
  <joint name="gripper_center_joint" type="fixed">
      <origin rpy="0 0 -1.57079632679" xyz="0.0 0.0 0.23"/>
      <parent link="left_base_link"/>
      <child link="gripper_center"/>
  </joint>

  <link 
      name="right_gripper_center">
  </link>

  <joint name="right_gripper_center_joint" type="fixed">
      <origin rpy="0 0 -1.57079632679" xyz="0.0 0.0 0.227"/>
      <parent link="right_base_link"/>
      <child link="right_gripper_center"/>
  </joint>


</robot>
